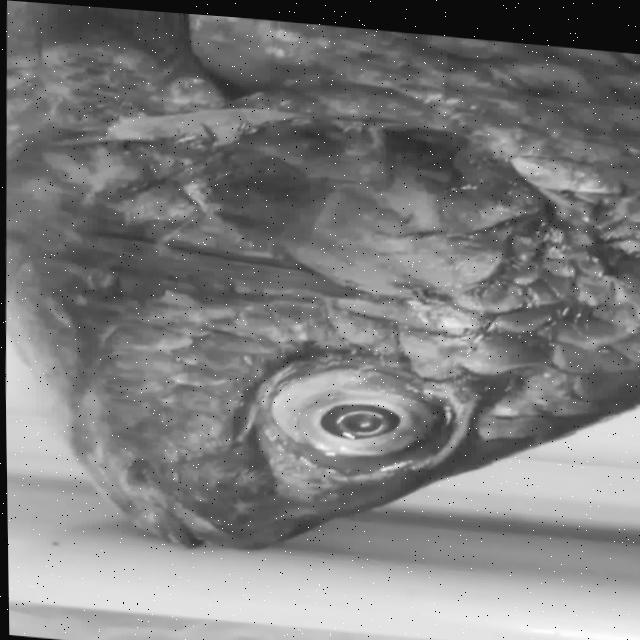Non-Fresh: (243, 339, 465, 488)
